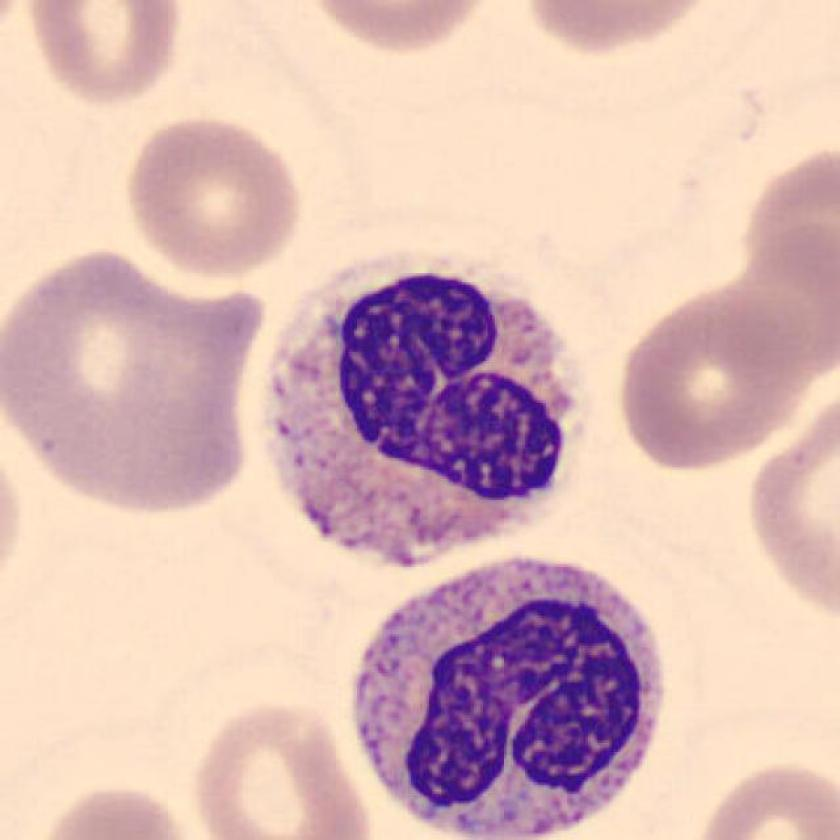neutrophil: (273, 266, 575, 564), (357, 556, 664, 840)
